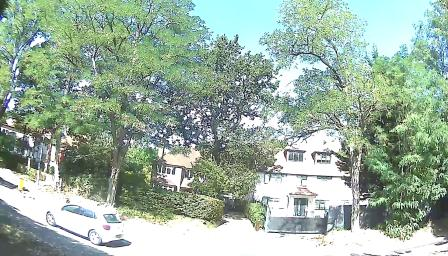Cars: (52, 201, 124, 244)
